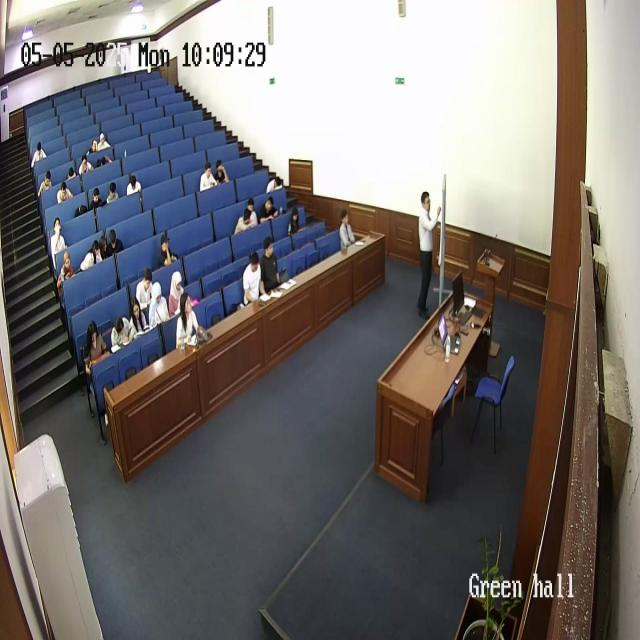person: (416, 189, 442, 319), (84, 321, 108, 382), (241, 251, 267, 305), (259, 236, 283, 294), (176, 292, 200, 346), (148, 283, 170, 328), (57, 248, 77, 295), (110, 313, 134, 351), (168, 268, 186, 318), (50, 217, 68, 267), (135, 267, 154, 312), (130, 299, 151, 337), (80, 238, 104, 271), (338, 209, 357, 250), (158, 234, 178, 268), (234, 207, 256, 236), (260, 196, 280, 225), (199, 160, 217, 191), (106, 227, 124, 257), (286, 206, 302, 236), (32, 140, 48, 170), (56, 180, 74, 206), (74, 191, 91, 218), (38, 170, 53, 200), (89, 186, 106, 212), (213, 159, 229, 184), (78, 150, 94, 175), (94, 152, 112, 174), (265, 172, 281, 194), (126, 175, 142, 197), (105, 182, 119, 204), (96, 132, 110, 152), (247, 191, 258, 215), (64, 165, 78, 183), (89, 138, 100, 157)
